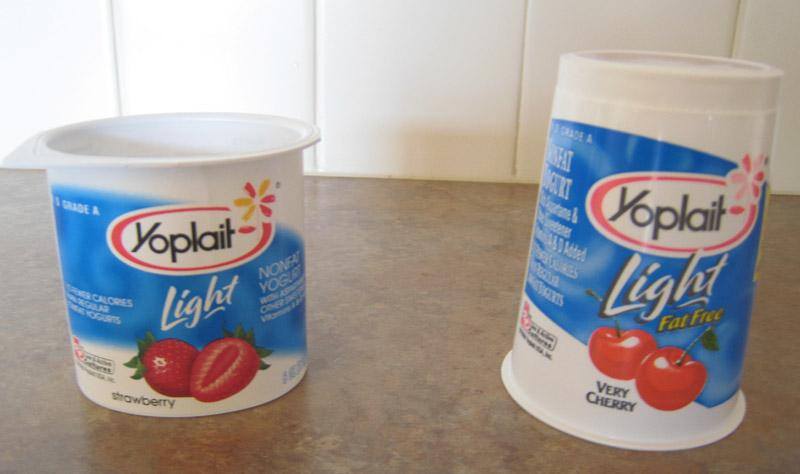plastic: (501, 46, 783, 455), (7, 109, 328, 420)
